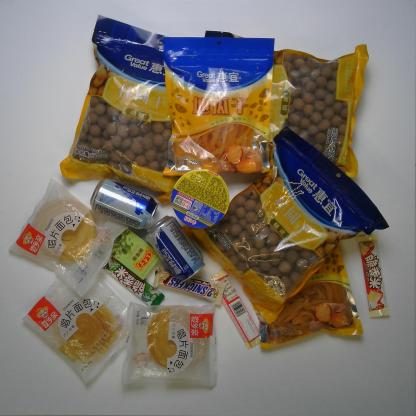Alcohol: (145, 214, 206, 283), (89, 177, 160, 231)
Candy: (111, 228, 161, 281)
Chocolate: (208, 269, 261, 349), (102, 256, 166, 306), (152, 266, 227, 305), (356, 235, 390, 318)
Dessert: (7, 177, 130, 299), (21, 276, 130, 384), (120, 300, 218, 389)
Dried Food: (183, 124, 393, 324), (204, 29, 371, 179), (58, 14, 183, 207)
Dried Fruit: (161, 35, 276, 178), (252, 243, 364, 349)
Instant Noodles: (170, 168, 231, 230)
